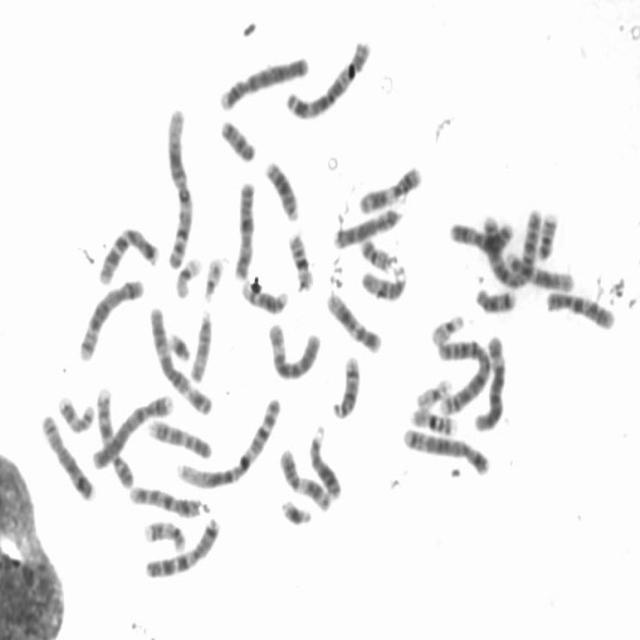A1: (174, 394, 283, 491), (162, 103, 193, 271)
A2: (480, 206, 544, 290), (435, 335, 491, 417)
A3: (282, 36, 372, 122), (146, 301, 213, 416)
B4: (89, 391, 175, 470), (216, 52, 311, 112)
B5: (75, 276, 144, 364), (400, 424, 492, 476)
C10: (542, 287, 616, 332), (125, 480, 205, 517)
C11: (275, 445, 333, 514), (356, 162, 424, 215)
C12: (323, 288, 383, 356), (503, 248, 574, 293)
C6: (264, 319, 322, 382), (471, 332, 507, 432)
C7: (141, 515, 222, 580), (95, 222, 161, 286)
C8: (38, 411, 96, 503), (331, 205, 404, 250)
C9: (94, 384, 135, 491), (147, 417, 213, 461)
D13: (306, 422, 342, 500), (262, 157, 300, 223)
D14: (238, 276, 291, 317), (329, 354, 361, 421)
D15: (358, 263, 408, 304), (188, 306, 213, 384)
E16: (285, 228, 315, 292), (408, 404, 459, 436)
E17: (141, 518, 188, 554), (56, 392, 96, 434)
E18: (218, 116, 256, 164), (472, 284, 517, 315)
F19: (413, 374, 454, 412), (172, 253, 202, 300)
F20: (535, 209, 560, 262), (358, 235, 392, 273)
G21: (279, 497, 313, 527), (166, 330, 192, 362)
G22: (428, 312, 466, 348), (200, 254, 224, 304)
X: (446, 216, 516, 257), (231, 178, 256, 281)
